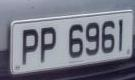1: (116, 14, 125, 54)
6: (65, 22, 86, 60), (99, 16, 117, 55)
9: (83, 19, 101, 57)
P: (38, 22, 60, 67), (20, 23, 41, 70)
